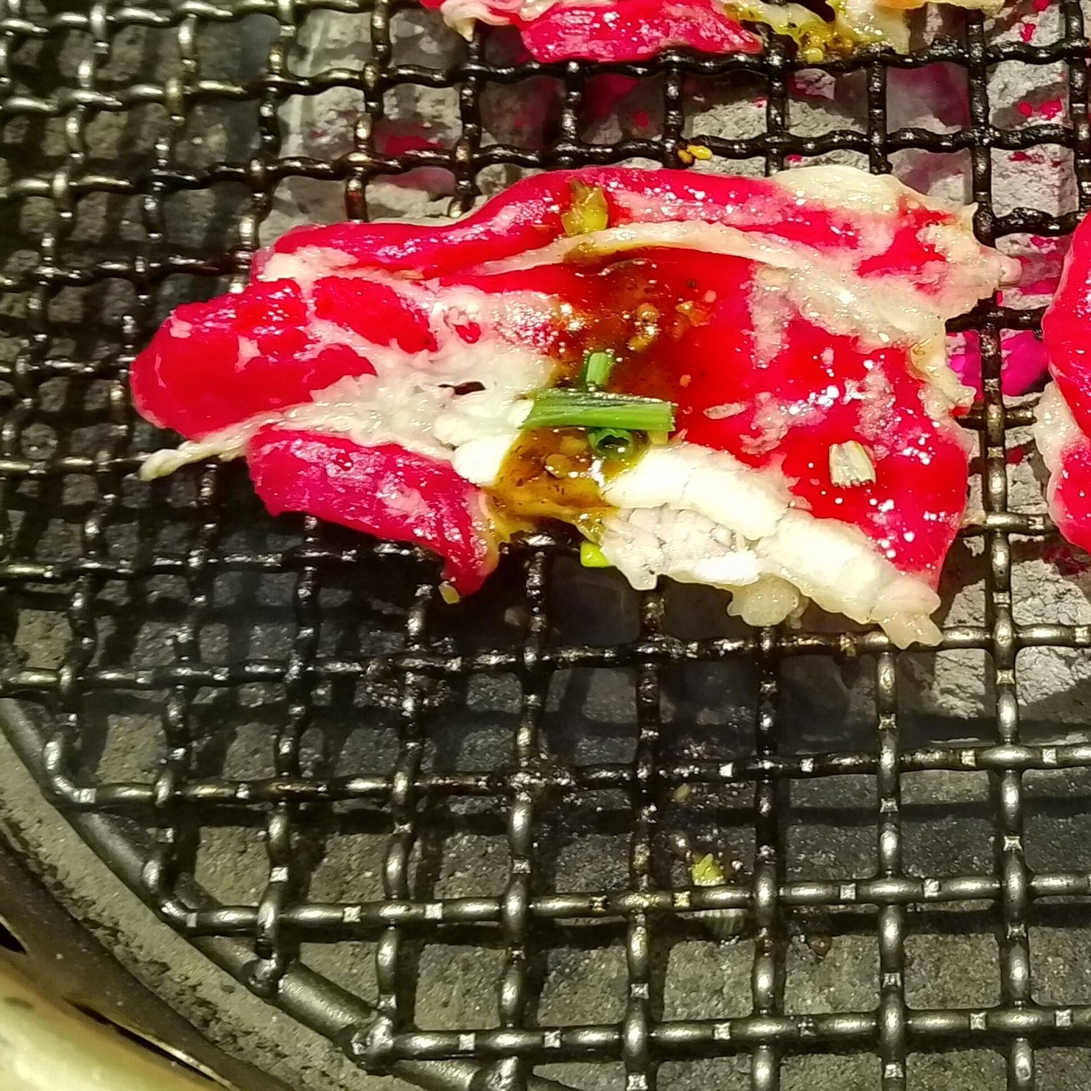Undercooked: (131, 166, 1020, 646)
